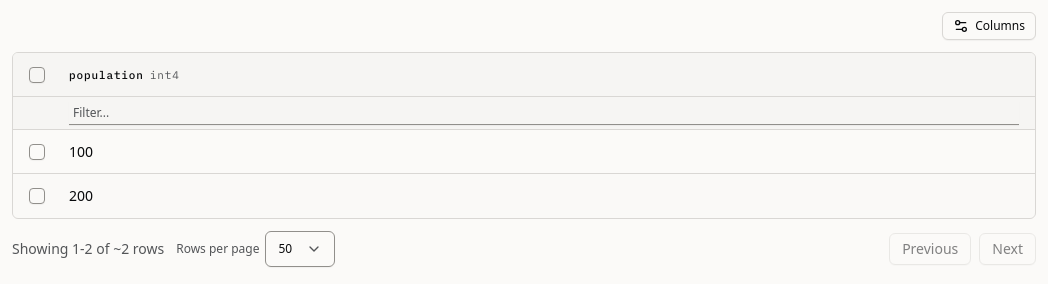
Test: fix(#1628): inline cell editor survives an unrelated re-render › does not let an older cell save close a newer editor in the same dataset
This screenshot has width=1048, height=284.
Click the button "100". click: (81,151)
box: [67,142,1017,162]
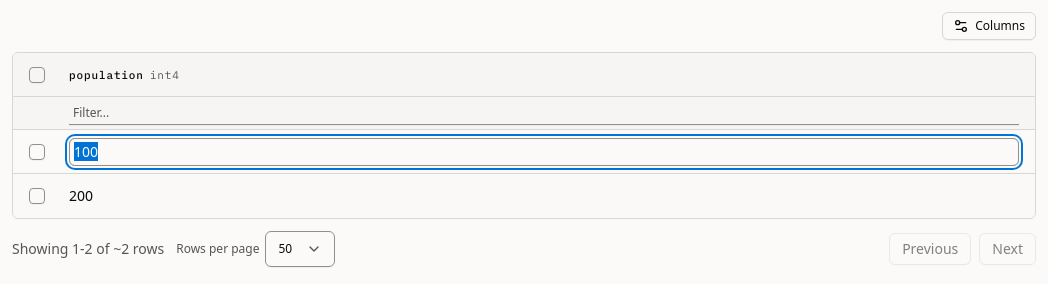
Replace the text in the field named "Edit population for feature 1" with "250". click: (544,152)
box: [69,138,1019,166]
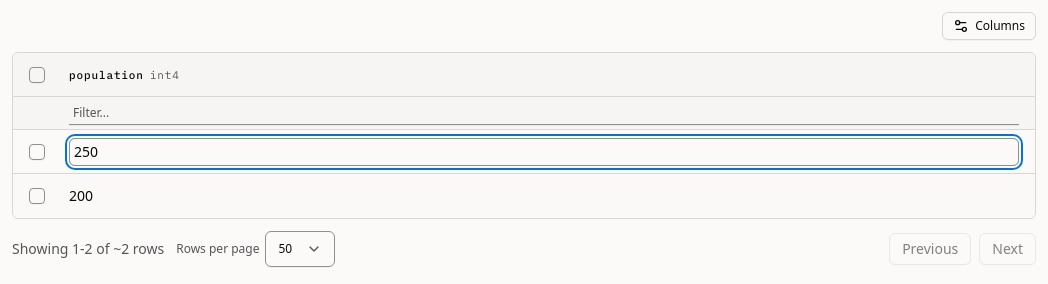
Press Enter
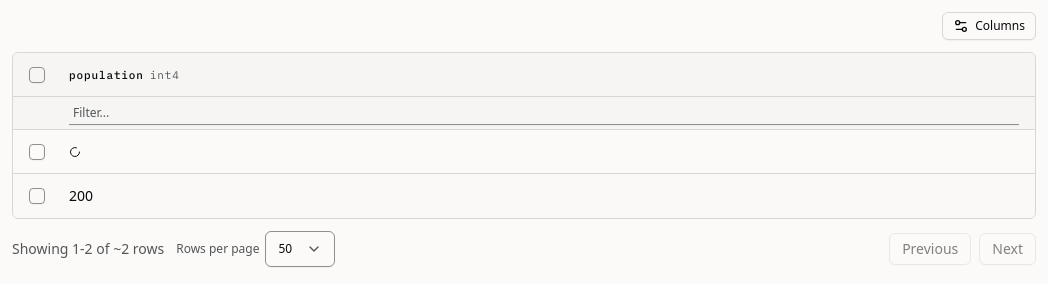
Click the button "200". click: (81,195)
box: [67,186,1017,206]
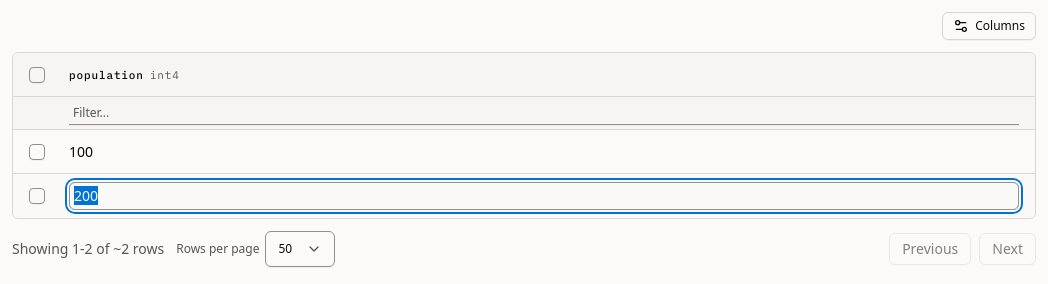
Expected: the field named "Edit population for feature 2" is shown, [69,182,1019,210]
